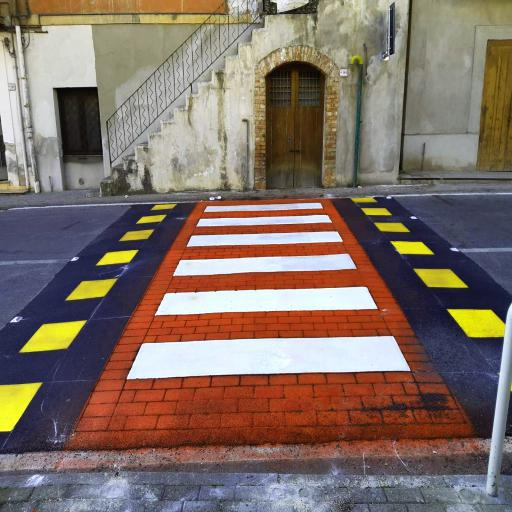crosswalk: (123, 284, 415, 386), (168, 230, 360, 276)
